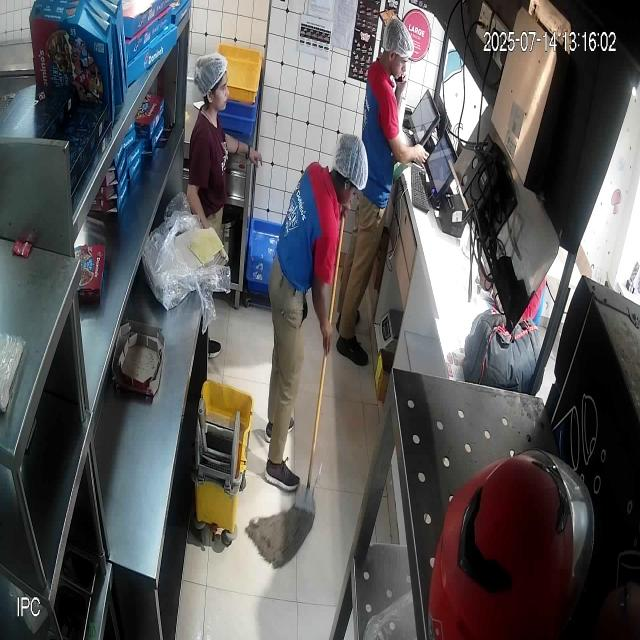helmet: (425, 448, 593, 639)
